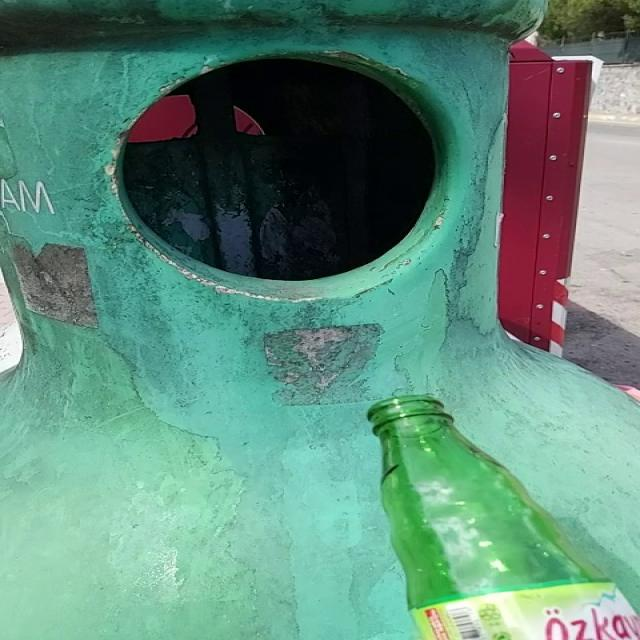glass: (369, 396, 640, 640)
